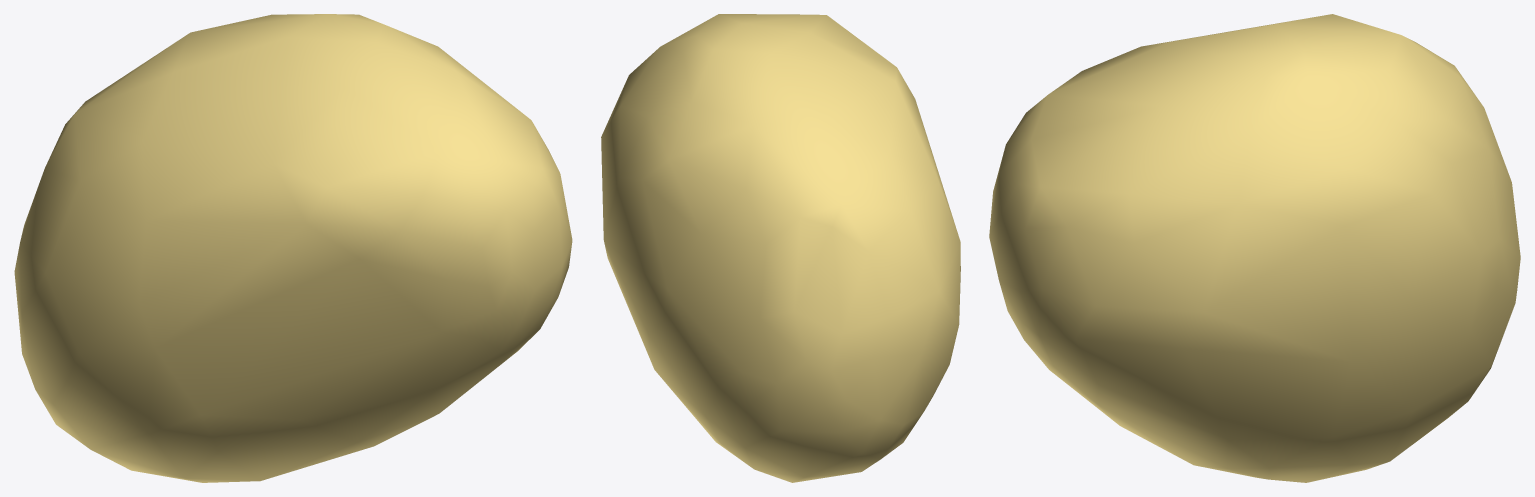
File: fma73435.glb
3 views of the same model, side by side, from view 1: azimuth 30°, elevation 25°; view 2: azimuth 150°, elevation 25°; view 3: azimuth 270°, elevation 25° (orthographic). The views are drawn at different scales.
Parts seen in each view (by area): view 1: FMA73435; view 2: FMA73435; view 3: FMA73435.
Part boxes in pixels (left/top/right/bottom): FMA73435: left=14, top=14, right=572, bottom=482; FMA73435: left=601, top=14, right=960, bottom=482; FMA73435: left=989, top=14, right=1520, bottom=482.
Size of the model in its own units: 0.0074 by 0.00734 by 0.00756.
